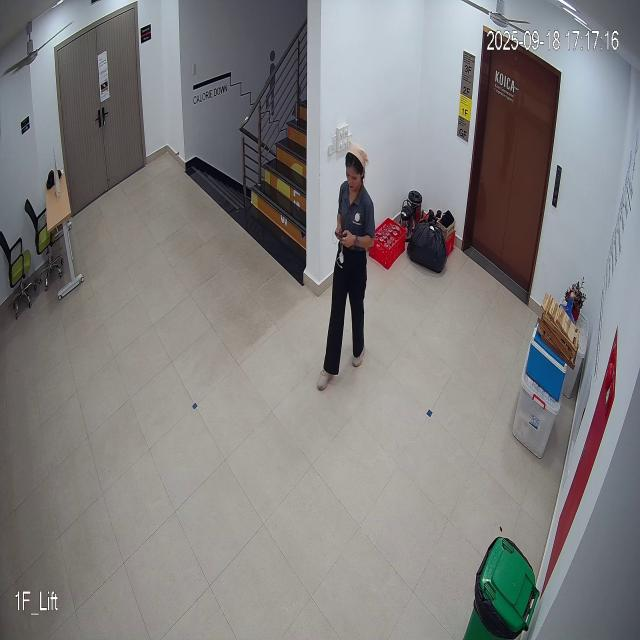face: (344, 138, 368, 196)
